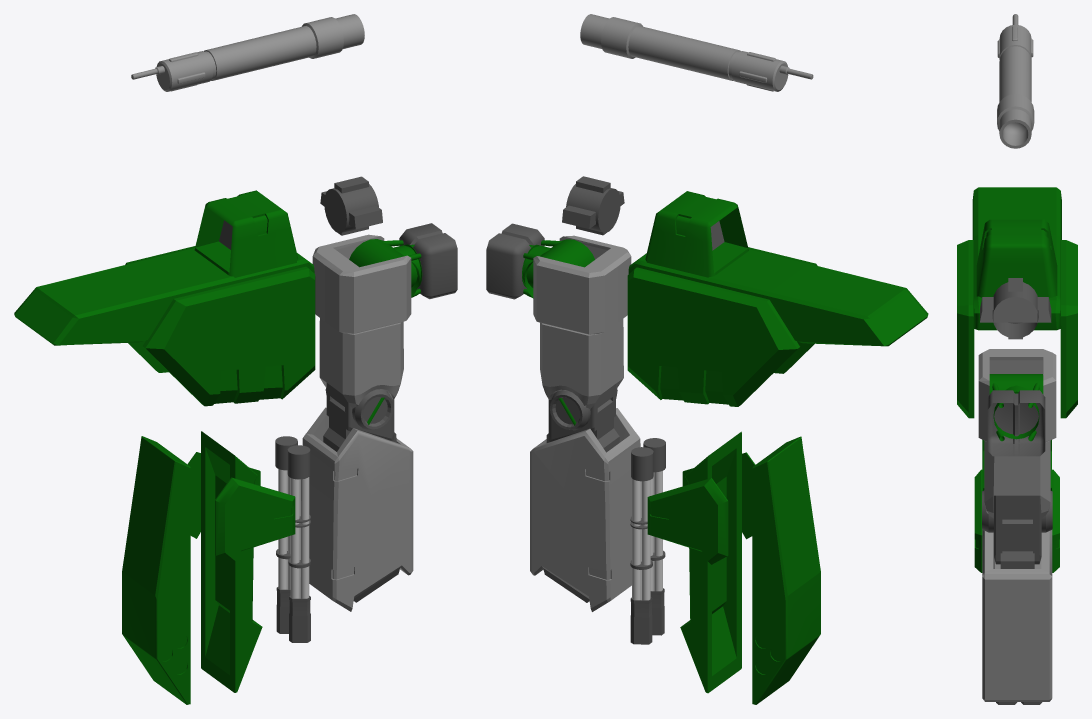
The model's file is Cardigan Arms.fbx.
3 renders of one model, left to right at view 1: azimuth 30°, elevation 25°; view 2: azimuth 150°, elevation 25°; view 3: azimuth 270°, elevation 25°, orthographic.
Visible parts, largest first — view 1: polySurface228, polySurface260, polySurface261, polySurface227, polySurface240, polySurface239, polySurface266, polySurface251, polySurface245, polySurface249, polySurface236, polySurface226 (+9 smaller); view 2: polySurface229, polySurface260, polySurface261, polySurface227, polySurface240, polySurface239, polySurface266, polySurface251, polySurface245, polySurface250, polySurface236, polySurface226 (+10 smaller); view 3: polySurface260, polySurface251, polySurface227, polySurface266, polySurface236, polySurface239, polySurface245, polySurface228, polySurface229, polySurface242, polySurface224, polySurface226 (+9 smaller).
Part boxes in pixels (x1,y1,x2,y2): polySurface228: (143, 266, 315, 406); polySurface260: (302, 407, 413, 611); polySurface261: (122, 436, 190, 704); polySurface227: (14, 248, 314, 345); polySurface240: (201, 431, 262, 692); polySurface239: (312, 234, 411, 333); polySurface266: (131, 14, 364, 91); polySurface251: (194, 190, 298, 277); polySurface245: (319, 318, 403, 408); polySurface249: (215, 477, 295, 564); polySurface236: (399, 223, 457, 299); polySurface226: (324, 184, 378, 233); polySurface229: (627, 267, 799, 406); polySurface260: (530, 408, 640, 611); polySurface261: (752, 436, 820, 704); polySurface227: (628, 249, 928, 346); polySurface240: (680, 431, 741, 693); polySurface239: (533, 235, 631, 334); polySurface266: (580, 14, 813, 91); polySurface251: (645, 191, 748, 277); polySurface245: (540, 319, 623, 409); polySurface250: (647, 478, 728, 564); polySurface236: (486, 223, 544, 299); polySurface226: (566, 184, 620, 232); polySurface260: (982, 530, 1052, 701); polySurface251: (976, 219, 1057, 297); polySurface227: (972, 187, 1061, 330); polySurface266: (997, 14, 1034, 148); polySurface236: (987, 390, 1045, 456); polySurface239: (978, 349, 1056, 442); polySurface245: (984, 440, 1050, 518); polySurface228: (957, 240, 974, 418); polySurface229: (1060, 240, 1077, 418); polySurface242: (980, 297, 1051, 322); polySurface224: (1000, 519, 1034, 568); polySurface226: (992, 282, 1038, 338).
Bounding box in the file's own units: 14.92 × 22.14 × 3.78.
